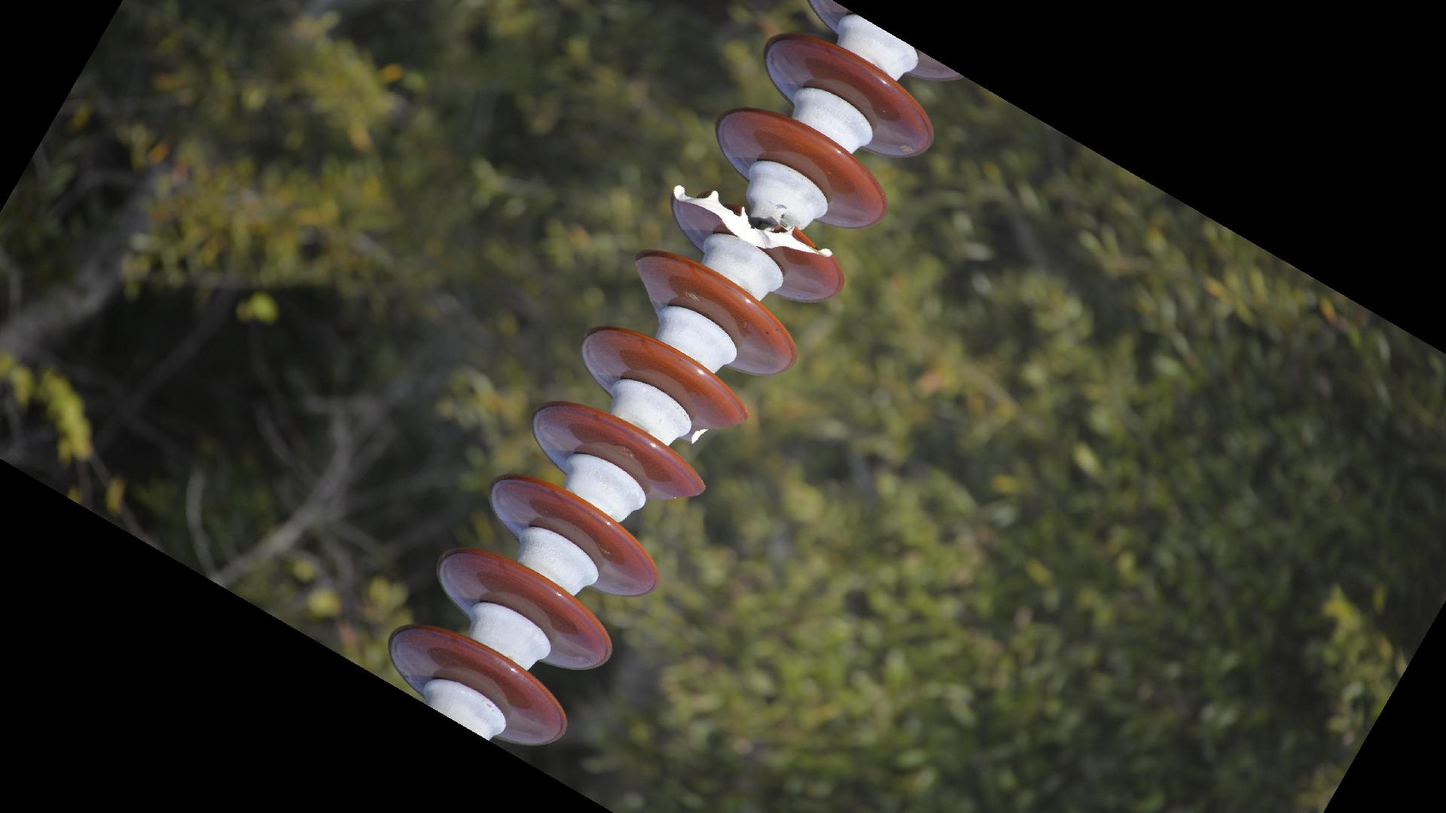insulator: (386, 1, 944, 757)
insulator_breakage: (667, 175, 840, 270), (680, 399, 754, 453)
